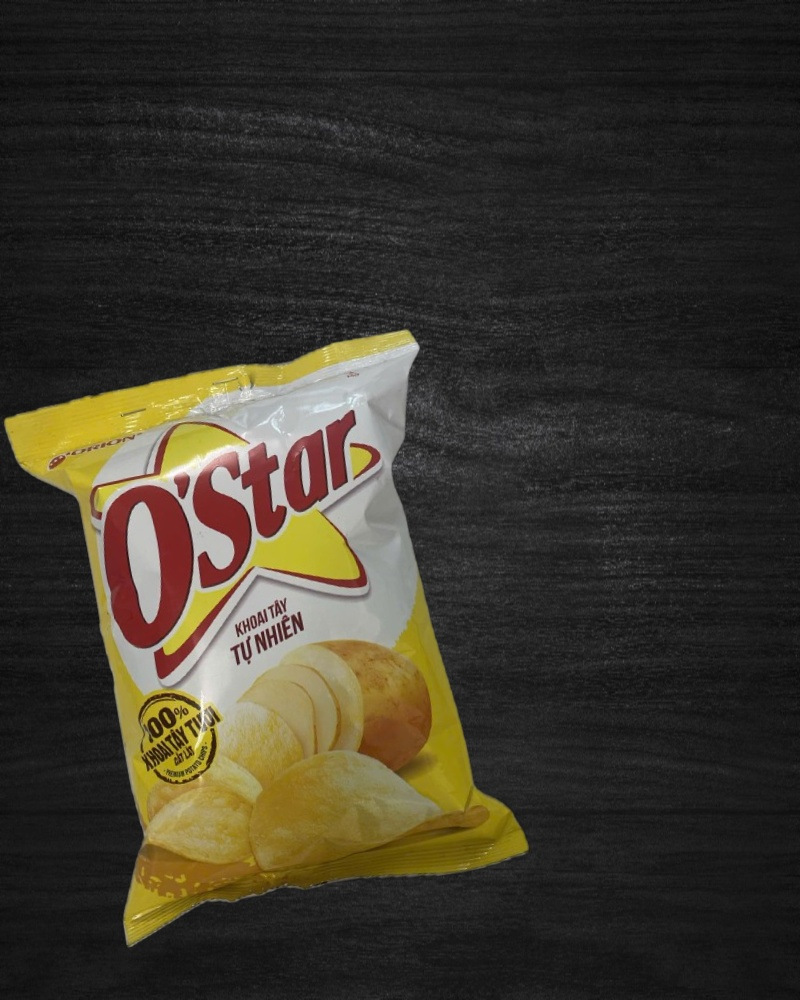O'star: (2, 324, 534, 953)
